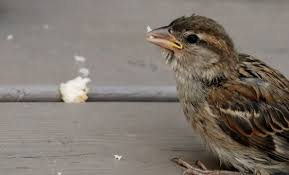hsparrow: (141, 11, 289, 174)
